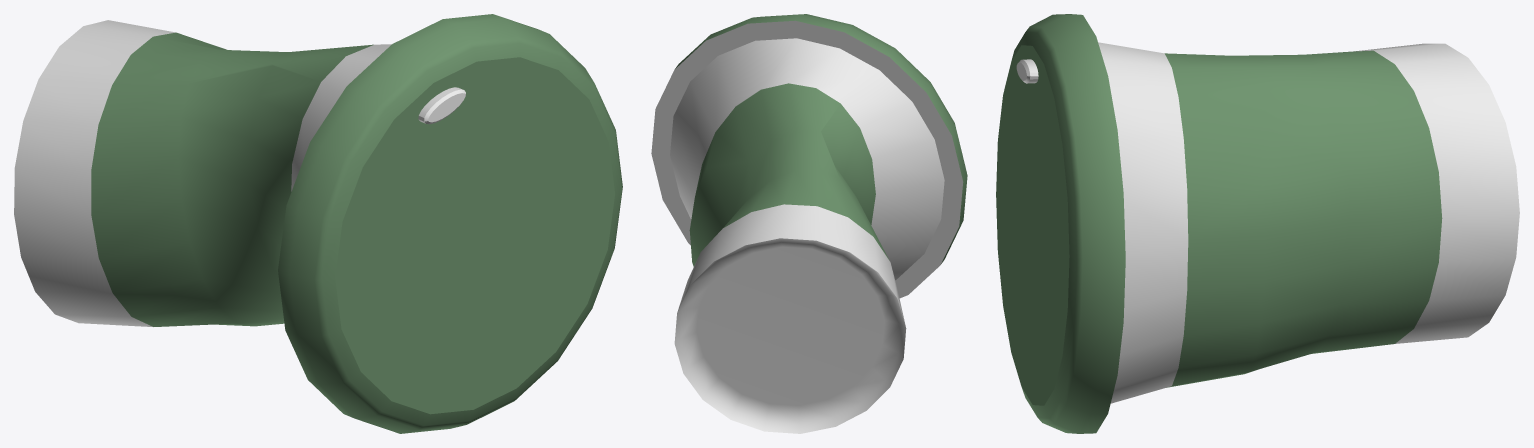
The model's file is Coffee Cup.fbx.
3 renders of one model, left to right at view 1: azimuth 30°, elevation 25°; view 2: azimuth 150°, elevation 25°; view 3: azimuth 270°, elevation 25°, orthographic. The views are drawn at different scales.
Parts seen in each view (by area): view 1: pCylinder21; view 2: pCylinder21; view 3: pCylinder21.
Part boxes in pixels (x1,y1,x2,y2): pCylinder21: (14, 14, 622, 433); pCylinder21: (651, 14, 967, 433); pCylinder21: (996, 14, 1519, 433).
Bounding box in the file's own units: 0.4239 × 0.3415 × 0.4223.
